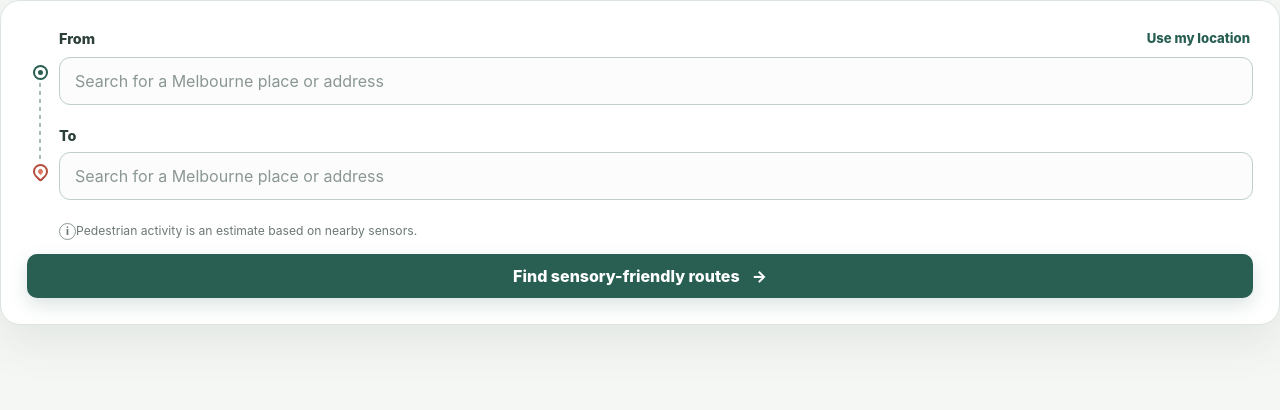
Test: RouteSearchForm › requires origin and destination without rendering a tolerance selector
Click the button "Find sensory-friendly routes →": (640, 276) top-left (27, 254), bottom-right (1253, 298)
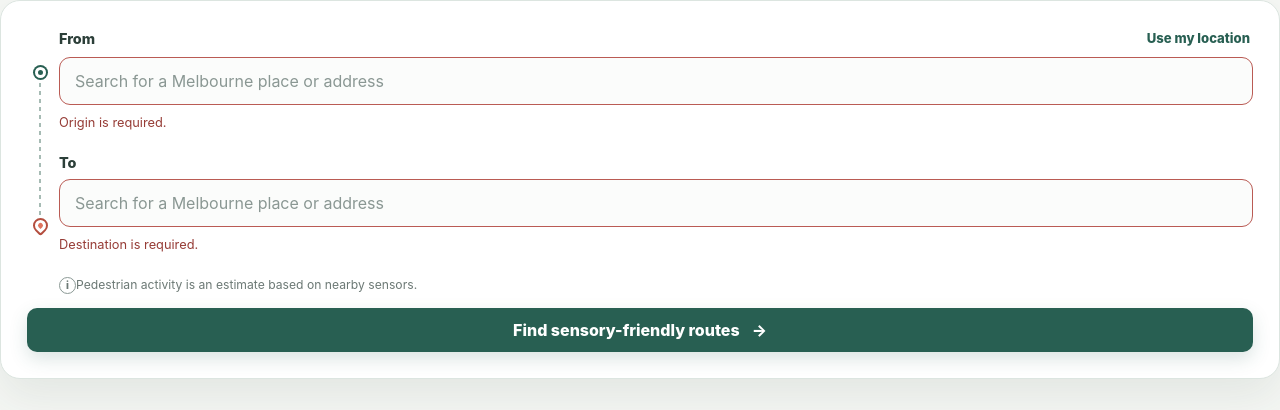
Expected: the dropdown labelled "From" is shown, top-left (59, 57), bottom-right (1253, 105)
Expected: the text "Origin is required." is shown, top-left (59, 115), bottom-right (166, 130)
Expected: the text "Destination is required." is shown, top-left (59, 237), bottom-right (198, 252)
